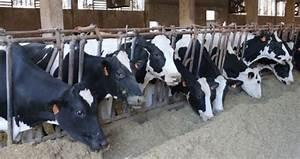cow: (0, 41, 110, 152), (171, 34, 243, 121), (233, 29, 294, 85)
